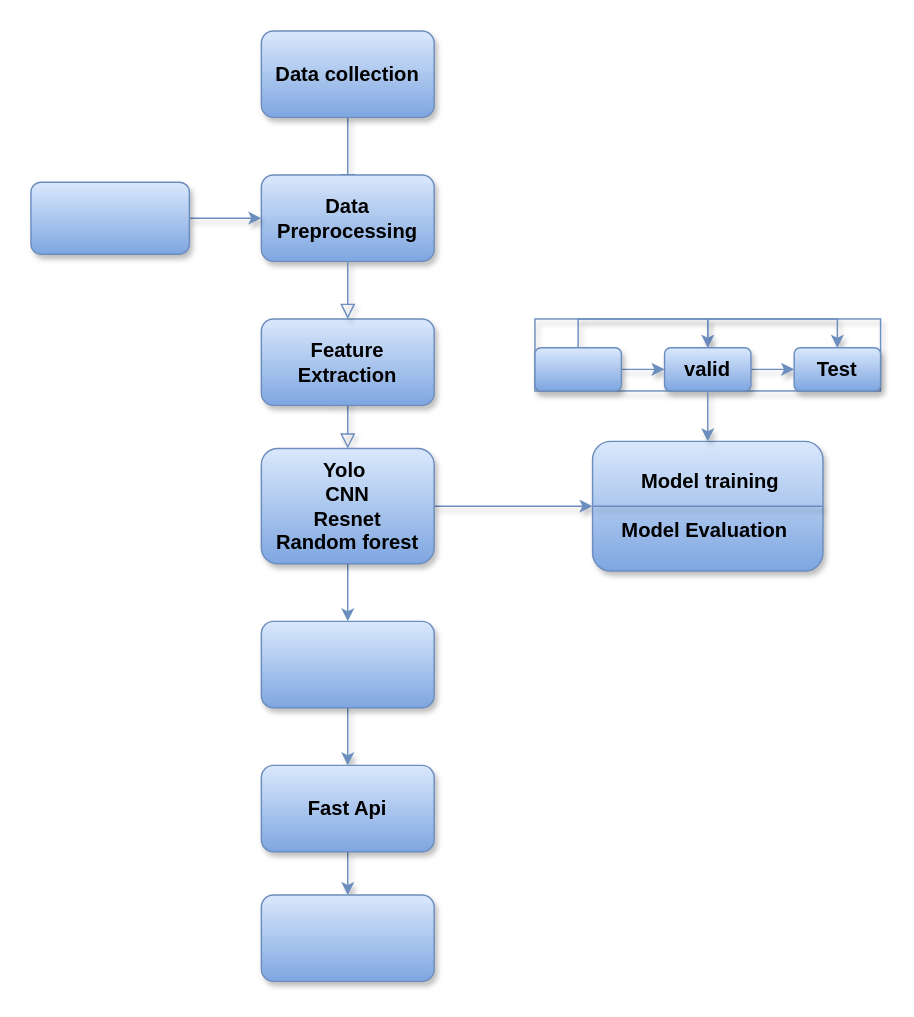
The diagram is 914 pixels wide and 1017 high, and some of its shapes have lost their labels. The centre of each missing label's shape, as x and y in pixels:
Model Deployment: the point at 348,666
Satellite images: the point at 111,219
Train: the point at 579,371
Web Interface: the point at 348,939
